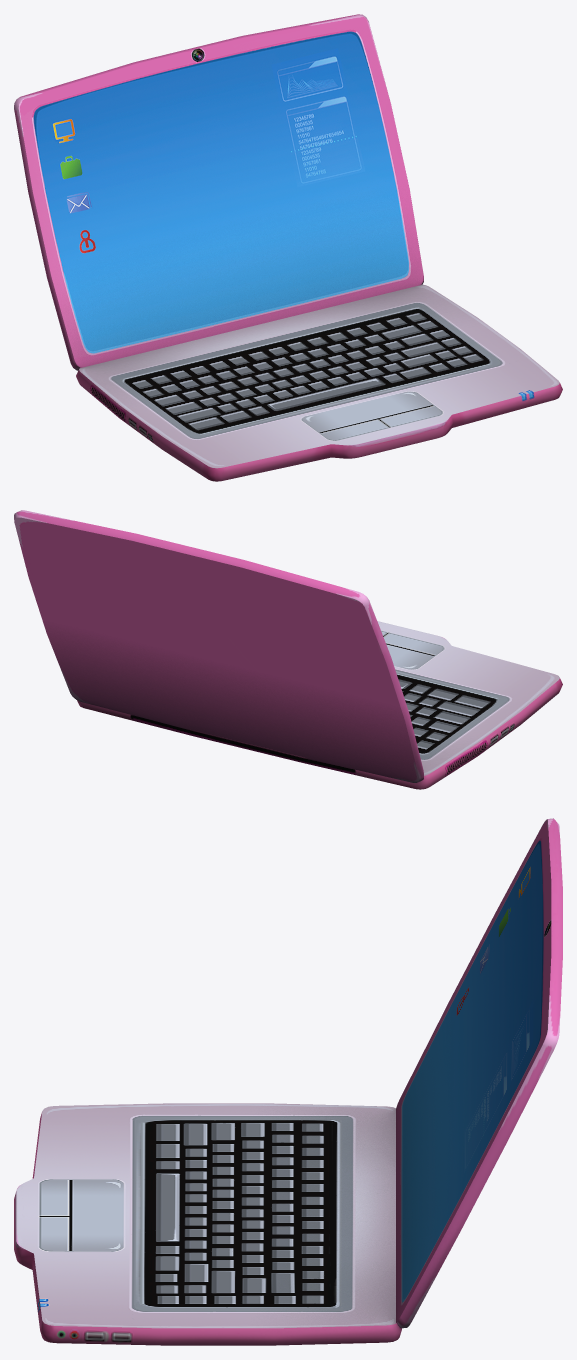
Rendered from Laptop.fbx.
3 renders of one model, top to bottom at view 1: azimuth 30°, elevation 25°; view 2: azimuth 150°, elevation 25°; view 3: azimuth 270°, elevation 25°, orthographic. The views are drawn at different scales.
Visible parts, largest first — view 1: FBX_68; view 2: FBX_68; view 3: FBX_68.
Part boxes in pixels (bbox=[...]): FBX_68: bbox=[14, 14, 562, 481]; FBX_68: bbox=[14, 510, 562, 789]; FBX_68: bbox=[14, 818, 562, 1345].
Bounding box in the file's own units: 64.06 × 41.33 × 65.27.
1 material, 1 textured.
